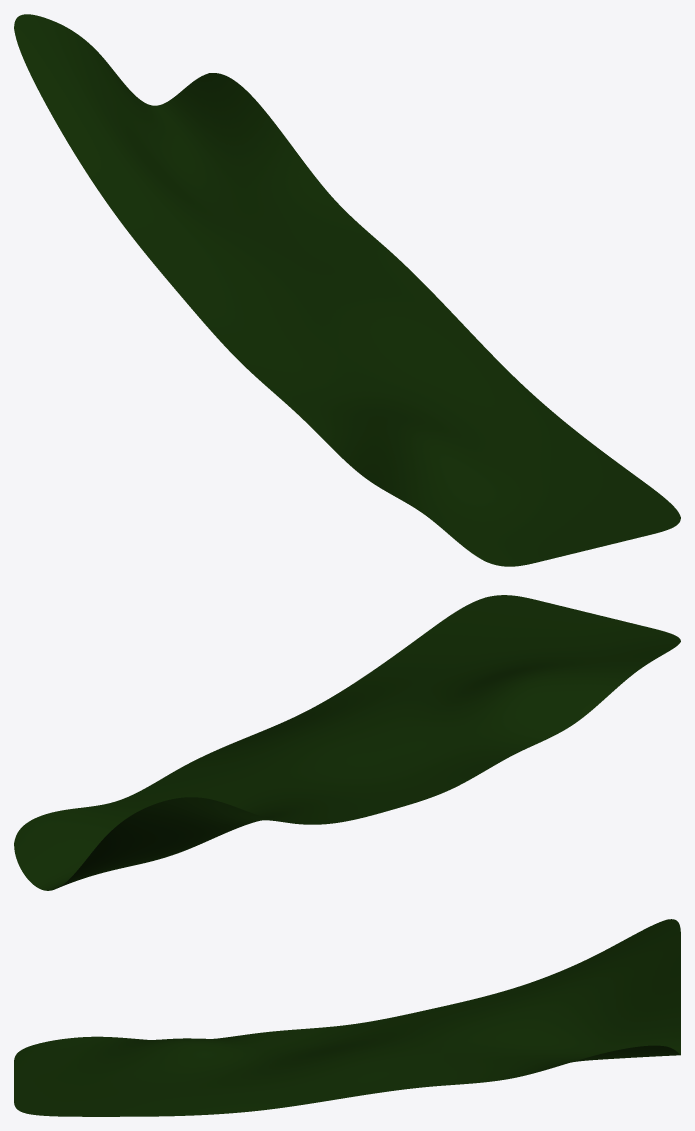
File: ForestOfPenix.glb
3 views of the same model, one above another, from view 1: azimuth 30°, elevation 25°; view 2: azimuth 150°, elevation 25°; view 3: azimuth 270°, elevation 25° (orthographic). The views are drawn at different scales.
Parts seen in each view (by area): view 1: Plane; view 2: Plane; view 3: Plane.
Boxes of the visible parts, x1,y1,x2,y2 form: Plane: (14, 14, 680, 566); Plane: (14, 595, 680, 890); Plane: (14, 919, 680, 1116).
Size of the model in its own units: 200 by 175 by 800.
